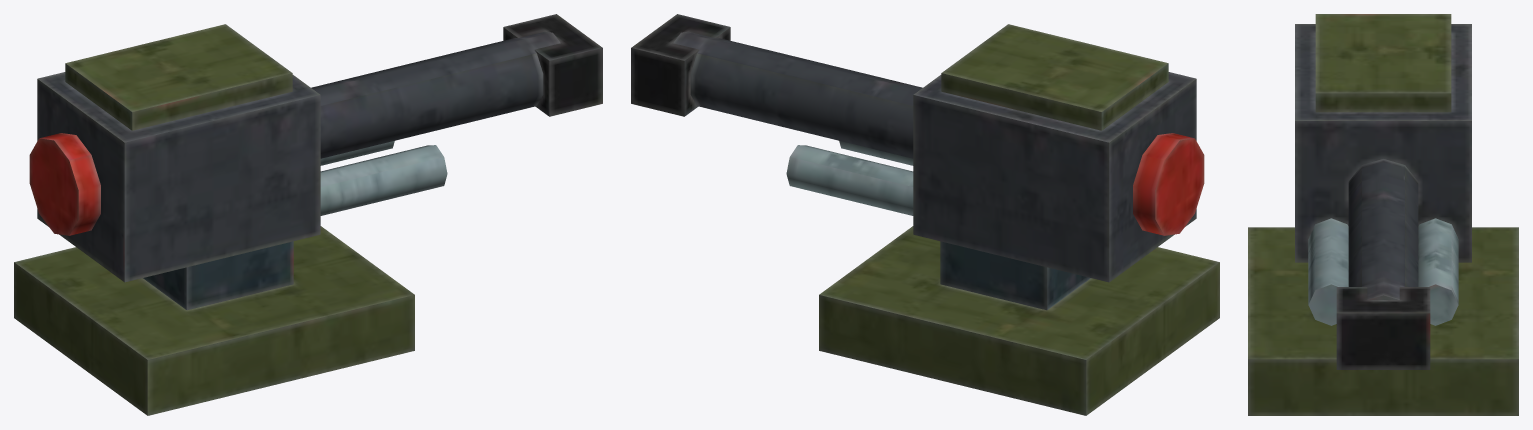
The model's file is weapon_component.glb.
3 views of the same model, side by side, from view 1: azimuth 30°, elevation 25°; view 2: azimuth 150°, elevation 25°; view 3: azimuth 270°, elevation 25° (orthographic).
Visible parts, largest first — view 1: te_res_weapon_component; view 2: te_res_weapon_component; view 3: te_res_weapon_component.
Part boxes in pixels (x1,y1,x2,y2): te_res_weapon_component: (14,14,602,415); te_res_weapon_component: (631,14,1219,415); te_res_weapon_component: (1248,14,1518,415).
Size of the model in its own units: 0.59 by 0.295 by 0.26.
Materials: 1 (1 with a texture image).
